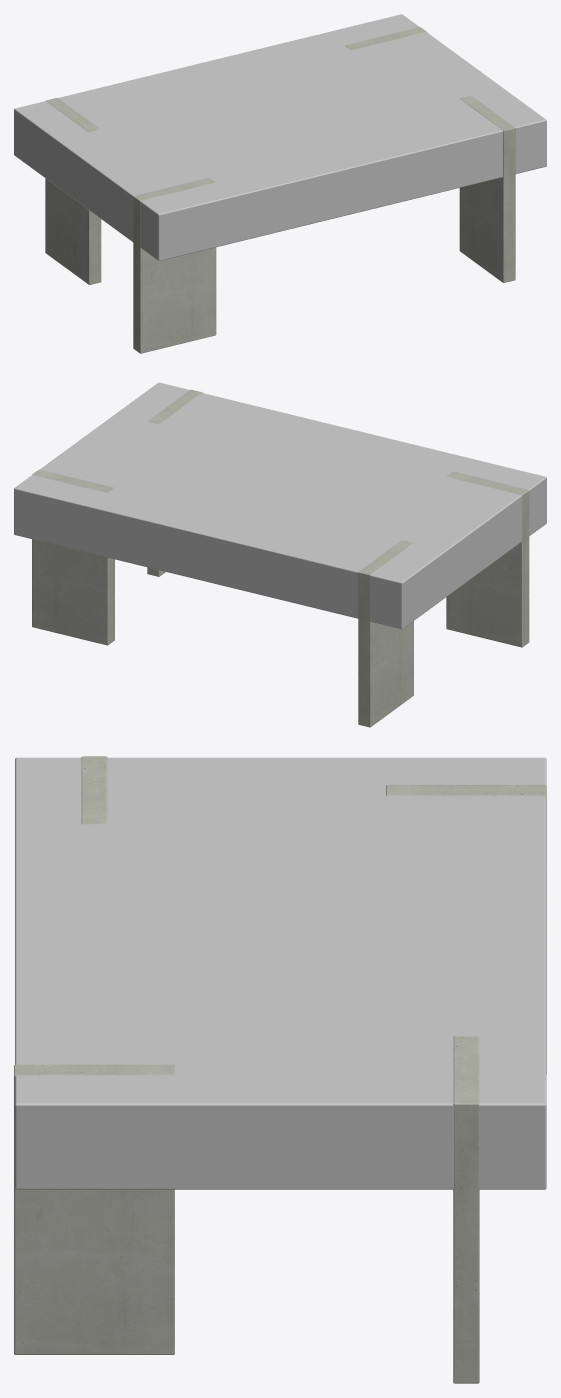
The model's file is table.gltf.
The picture shows the model from 3 angles, top to bottom: view 1: azimuth 30°, elevation 25°; view 2: azimuth 150°, elevation 25°; view 3: azimuth 270°, elevation 25°; orthographic projection. The views are drawn at different scales.
Visible parts, largest first — view 1: Cube.011, Cube.019, Cube.021, Cube.018, Cube.020; view 2: Cube.011, Cube.020, Cube.019, Cube.018, Cube.021; view 3: Cube.011, Cube.021, Cube.020, Cube.018, Cube.019.
Part boxes in pixels (x1,y1,x2,y2): Cube.011: (14, 14, 546, 260); Cube.019: (133, 178, 216, 353); Cube.021: (459, 95, 515, 282); Cube.018: (45, 97, 101, 284); Cube.020: (345, 27, 427, 50); Cube.011: (14, 382, 546, 629); Cube.020: (32, 469, 114, 645); Cube.019: (446, 471, 529, 647); Cube.018: (358, 540, 413, 727); Cube.021: (147, 389, 202, 576); Cube.011: (15, 757, 546, 1189); Cube.021: (14, 1064, 174, 1354); Cube.020: (453, 1036, 479, 1383); Cube.018: (386, 785, 546, 1074); Cube.019: (81, 756, 107, 824).
Size of the model in its own units: 1.36 by 0.5112 by 0.8818.
